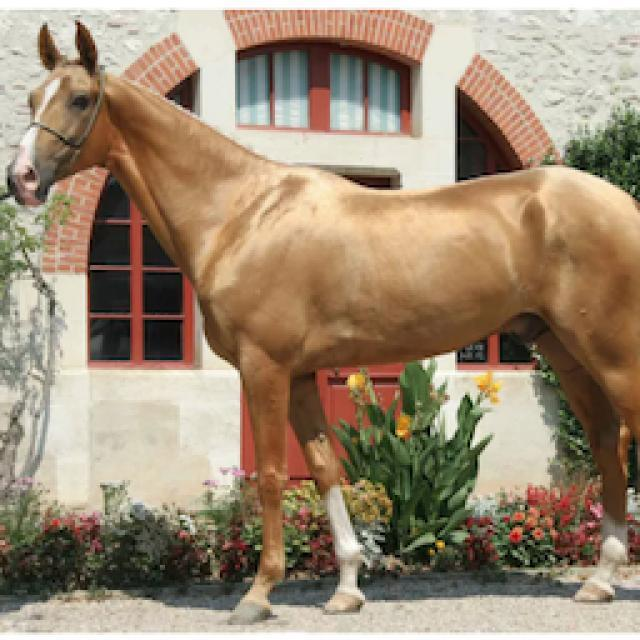Horse: (2, 18, 638, 622)
